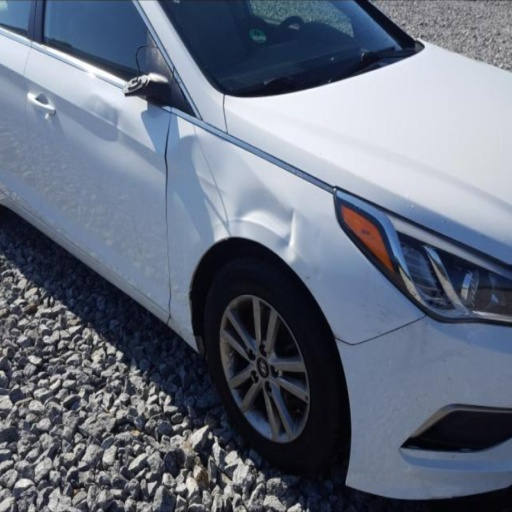dent: (166, 132, 259, 250), (235, 181, 317, 272), (66, 93, 159, 166), (314, 268, 324, 285)
scratch: (366, 303, 412, 334), (367, 329, 390, 341), (416, 310, 428, 325), (180, 332, 186, 339), (401, 328, 409, 333), (305, 274, 310, 280)
